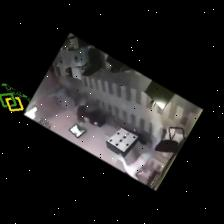person: (114, 143, 156, 180), (77, 93, 100, 126)
